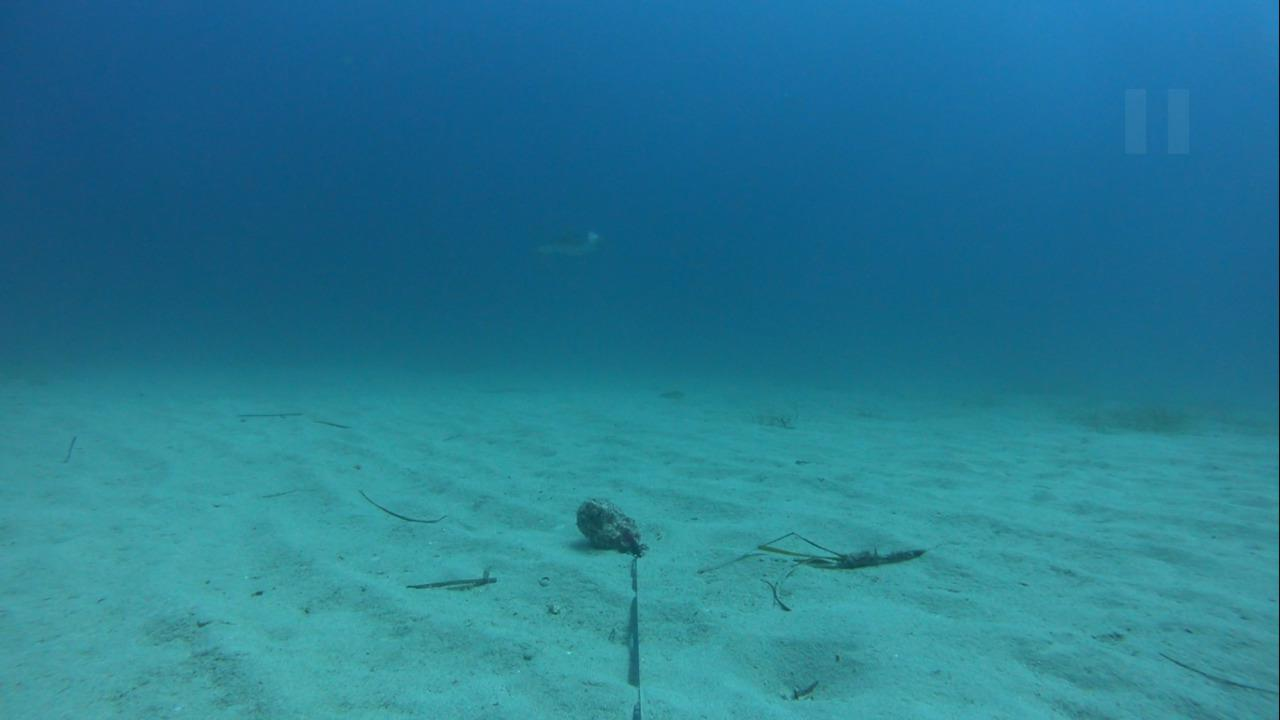myliobatis: (513, 219, 623, 265)
